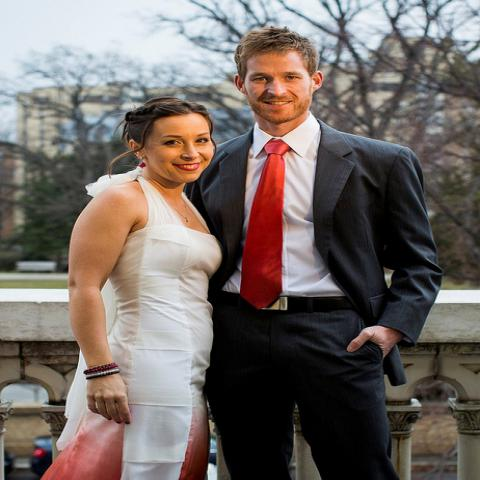car: (30, 435, 52, 479)
